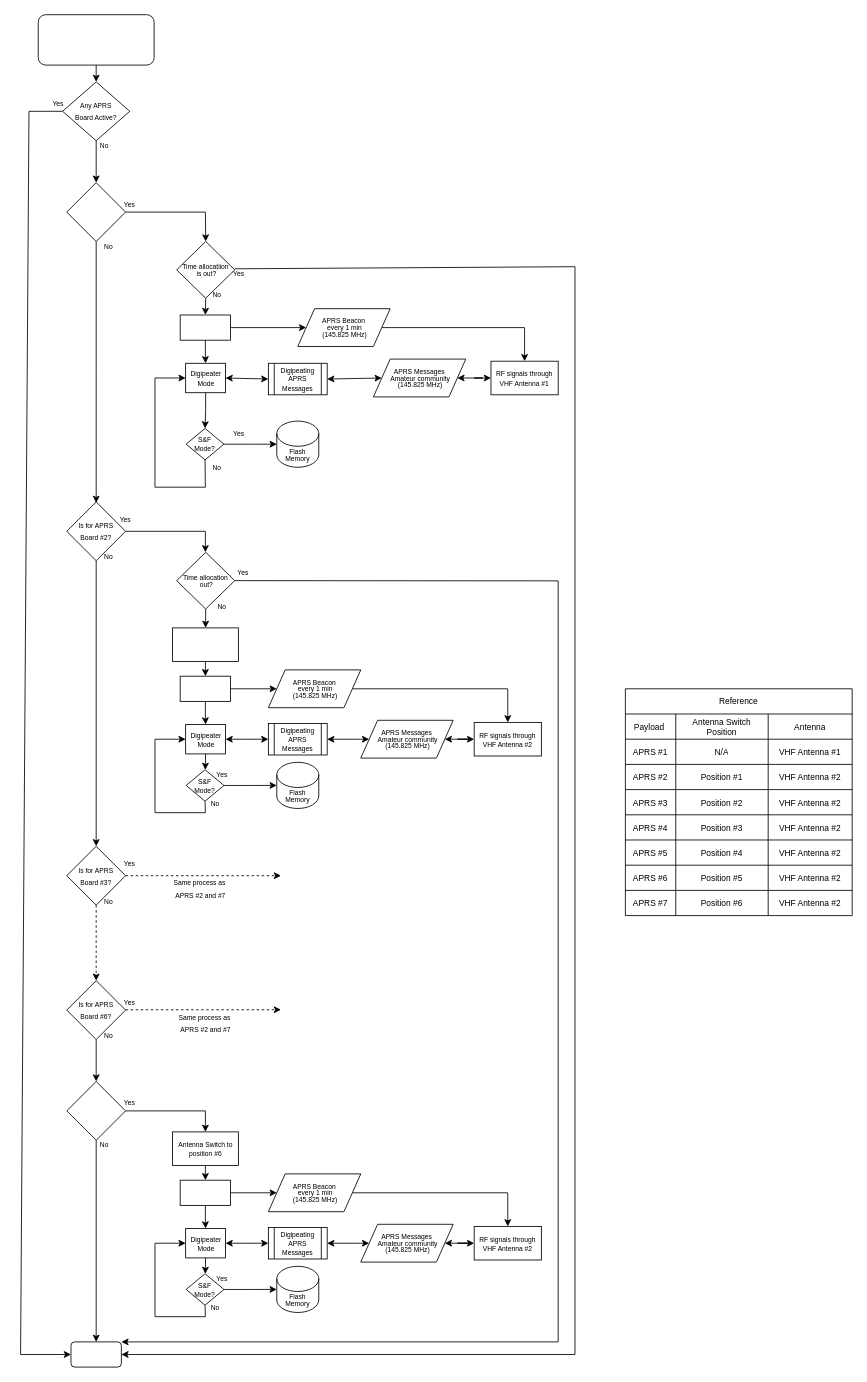
Some shapes in this 867 by 1382 pixel diagram are drawn without their labels. The shapes that lost their labels are listed below. From the top down, each one's centre as x and y in pixels, then its label:
At point (95, 39): "Command received from Ground Station and send to Mission Boss".
At point (96, 212): "Is for APRS Board #1?".
At point (205, 327): "Turn On APRS #1".
At point (205, 644): "Antenna Switch to position #1".
At point (205, 688): "Turn On APRS #2".
At point (96, 1110): "Is for APRS Board #7?".
At point (205, 1192): "Turn On APRS #7".
At point (95, 1354): "END".
